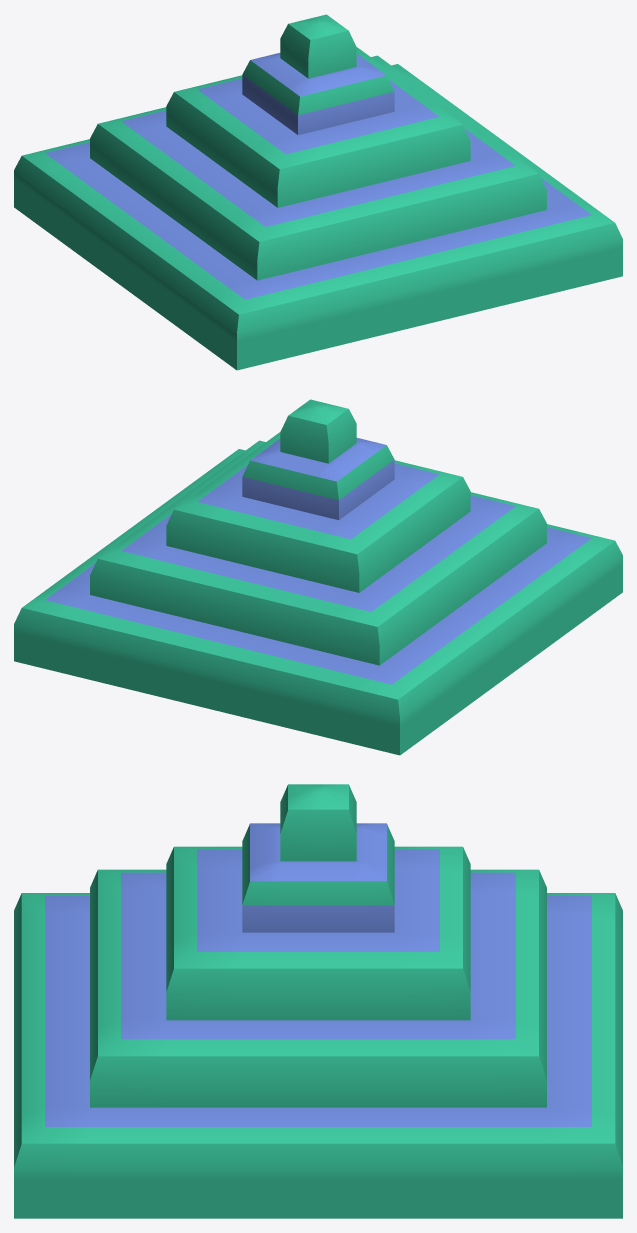
Rendered from Temple 1.fbx.
3 renders of one model, top to bottom at view 1: azimuth 30°, elevation 25°; view 2: azimuth 150°, elevation 25°; view 3: azimuth 270°, elevation 25°, orthographic. The views are drawn at different scales.
Parts seen in each view (by area): view 1: Temple 1; view 2: Temple 1; view 3: Temple 1.
Part boxes in pixels (left/top/right/bottom): Temple 1: left=14, top=14, right=622, bottom=370; Temple 1: left=14, top=399, right=622, bottom=755; Temple 1: left=14, top=784, right=622, bottom=1218.
Size of the model in its own units: 70 by 38.07 by 70.
Materials: 2 (2 with a texture image).
